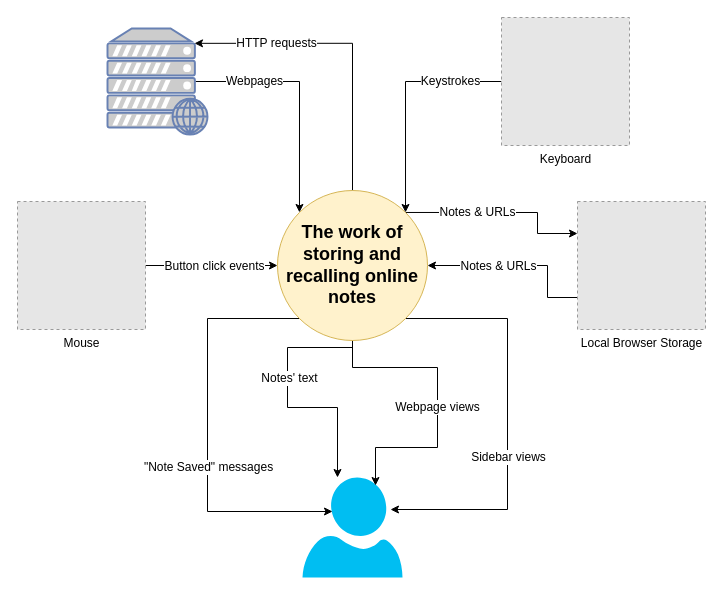
Some shapes in this 723 by 616 pixel diagram are drawn without their labels. Grey dashed boxes stand in for pictures. Here are the shapes that lost their labels. From the top down, the centre of each, then its label:
At point (157, 81): "Web Server".
At point (352, 527): "User".
